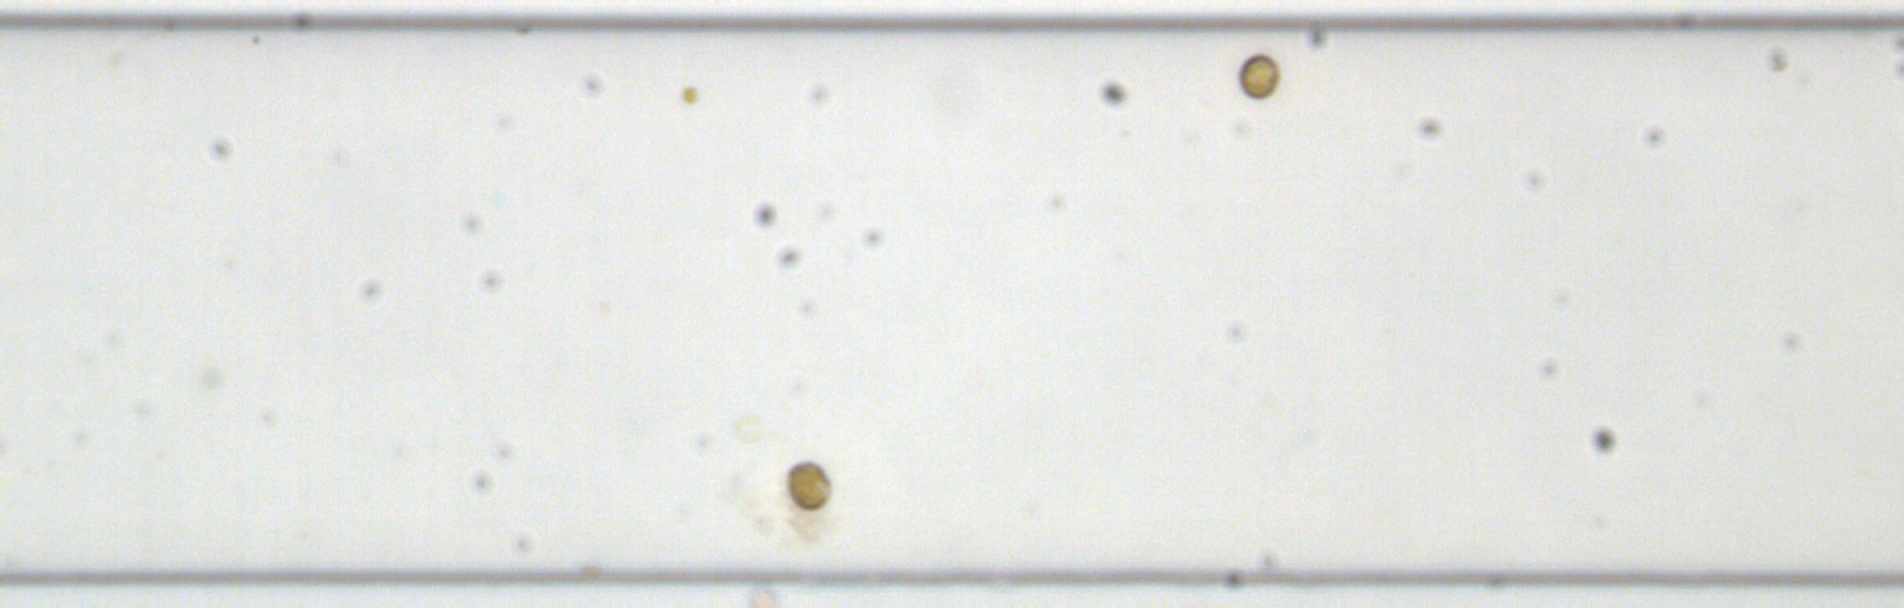Chlorella: (197, 366, 222, 392), (678, 83, 699, 106)
Effrenium: (783, 458, 832, 512), (1236, 50, 1280, 100)
